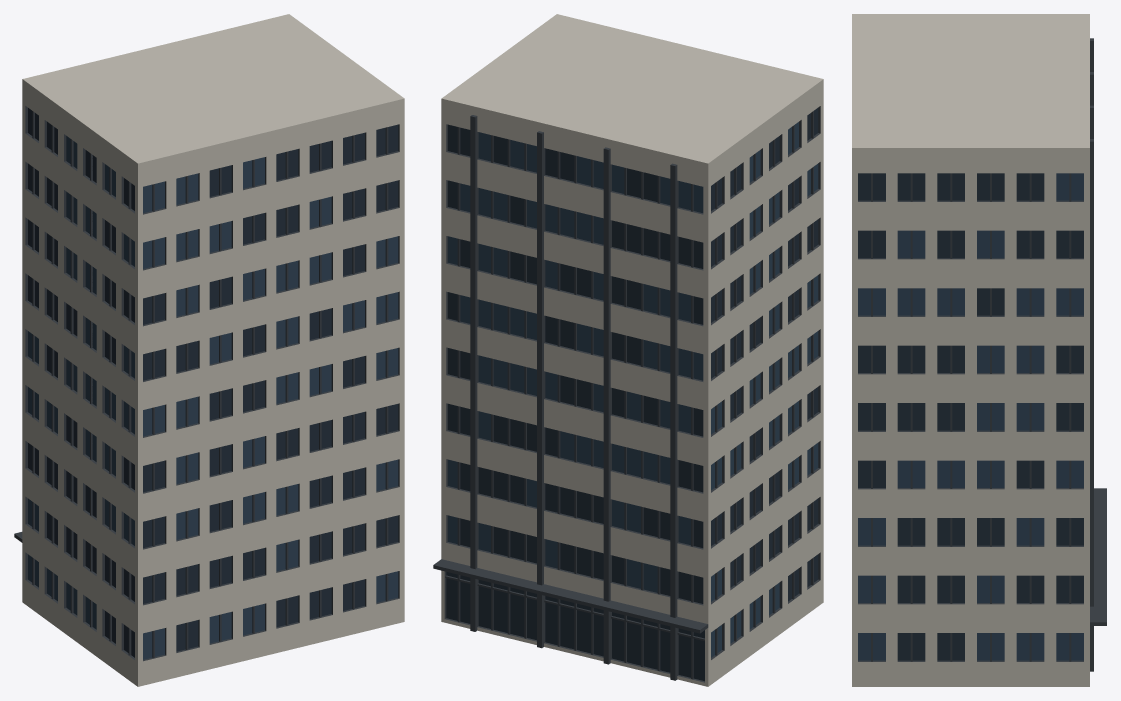
Rendered from PH_OfficeBlock__Body.fbx.
3 renders of one model, left to right at view 1: azimuth 30°, elevation 25°; view 2: azimuth 150°, elevation 25°; view 3: azimuth 270°, elevation 25°, orthographic. The views are drawn at different scales.
Visible parts, largest first — view 1: PH_OfficeBlock__Body; view 2: PH_OfficeBlock__Body; view 3: PH_OfficeBlock__Body.
Part boxes in pixels (x1=…): PH_OfficeBlock__Body: x1=14, y1=14, x2=404, y2=686; PH_OfficeBlock__Body: x1=433, y1=14, x2=823, y2=686; PH_OfficeBlock__Body: x1=852, y1=14, x2=1106, y2=686.
Size of the model in its own units: 16 by 30 by 12.85.
